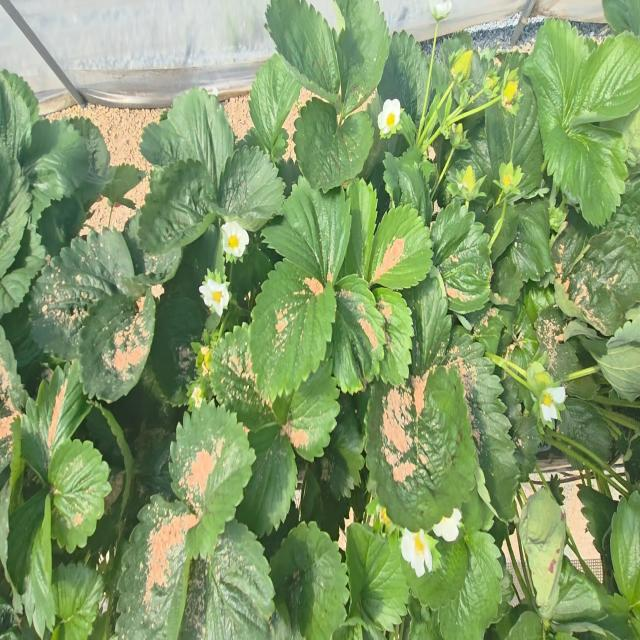Flowers: (401, 529, 432, 577), (199, 270, 230, 316), (222, 220, 249, 257), (540, 386, 566, 422), (433, 508, 461, 541), (377, 99, 401, 137), (428, 0, 452, 23)
Leaves: (366, 366, 477, 531), (29, 228, 145, 360), (446, 335, 520, 520), (169, 401, 255, 558), (115, 494, 198, 639), (249, 263, 336, 401), (181, 521, 276, 639), (541, 113, 627, 226), (140, 89, 235, 190), (262, 178, 351, 284), (271, 521, 349, 639), (20, 361, 92, 483), (80, 291, 155, 401), (131, 159, 217, 254), (485, 52, 542, 194), (523, 20, 590, 136), (293, 98, 374, 191), (437, 531, 503, 639), (48, 440, 111, 553), (209, 324, 275, 430), (236, 423, 297, 537), (272, 359, 340, 461), (266, 0, 339, 95), (431, 201, 492, 314), (8, 490, 54, 636), (346, 523, 408, 631), (24, 118, 90, 219), (333, 0, 389, 119), (207, 144, 284, 230), (570, 33, 640, 126), (149, 290, 206, 404), (332, 279, 385, 393), (368, 205, 431, 289), (550, 397, 614, 479), (249, 53, 302, 152), (403, 529, 468, 609), (405, 267, 452, 375), (378, 31, 428, 124), (585, 229, 640, 311), (0, 223, 45, 318), (0, 143, 31, 279), (0, 326, 27, 471), (567, 268, 624, 334), (375, 289, 414, 384), (510, 199, 554, 281), (344, 178, 377, 283), (0, 73, 33, 159), (538, 310, 578, 379), (492, 249, 523, 304)
Strawberries: (526, 361, 555, 401), (499, 161, 523, 193), (451, 51, 473, 77), (451, 123, 470, 149), (458, 166, 476, 192), (503, 81, 517, 106), (483, 75, 499, 92), (201, 347, 211, 371)
